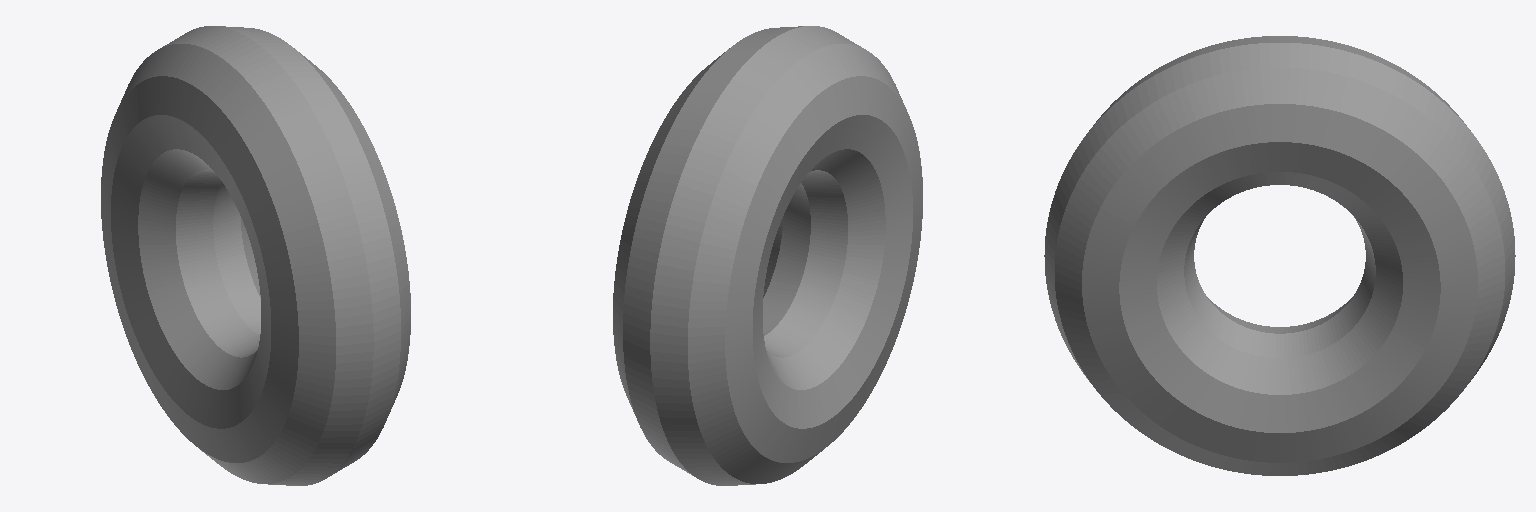
File: greenDonut.obj
3 views of the same model, side by side, from view 1: azimuth 30°, elevation 25°; view 2: azimuth 150°, elevation 25°; view 3: azimuth 270°, elevation 25° (orthographic).
Visible parts, largest first — view 1: Torus.001; view 2: Torus.001; view 3: Torus.001.
Boxes of the visible parts, <box> form: Torus.001: <box>101,26,410,485</box>; Torus.001: <box>613,26,922,485</box>; Torus.001: <box>1044,36,1515,475</box>.
Bounding box in the file's own units: 1.1 × 3.46 × 3.46.